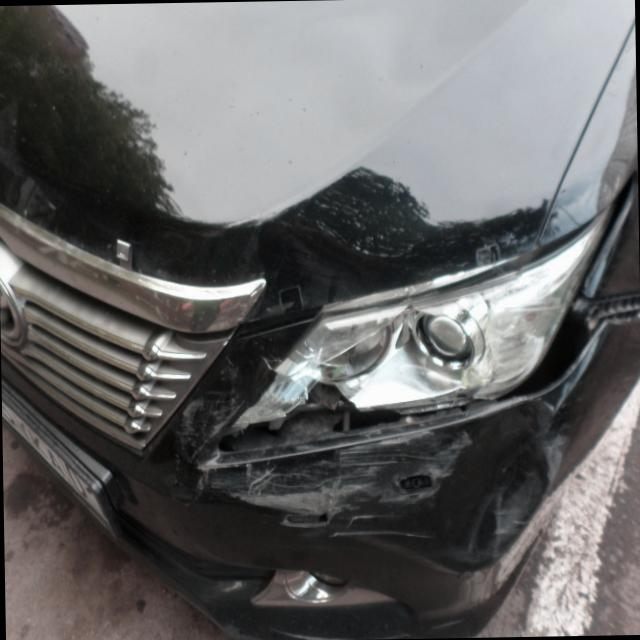Cabossage: (244, 197, 368, 322), (415, 190, 560, 268), (479, 463, 558, 580)
Phare abime: (202, 198, 629, 446)
Rayure: (214, 445, 472, 538), (151, 375, 257, 502)
